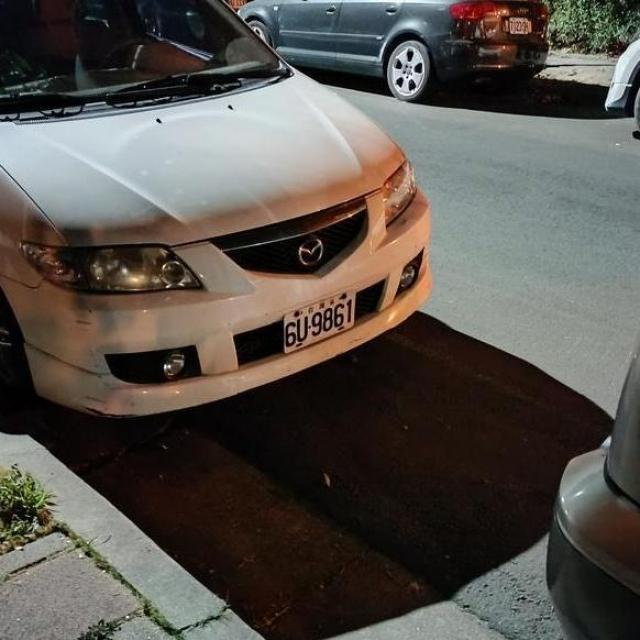W: (272, 278, 367, 356)
